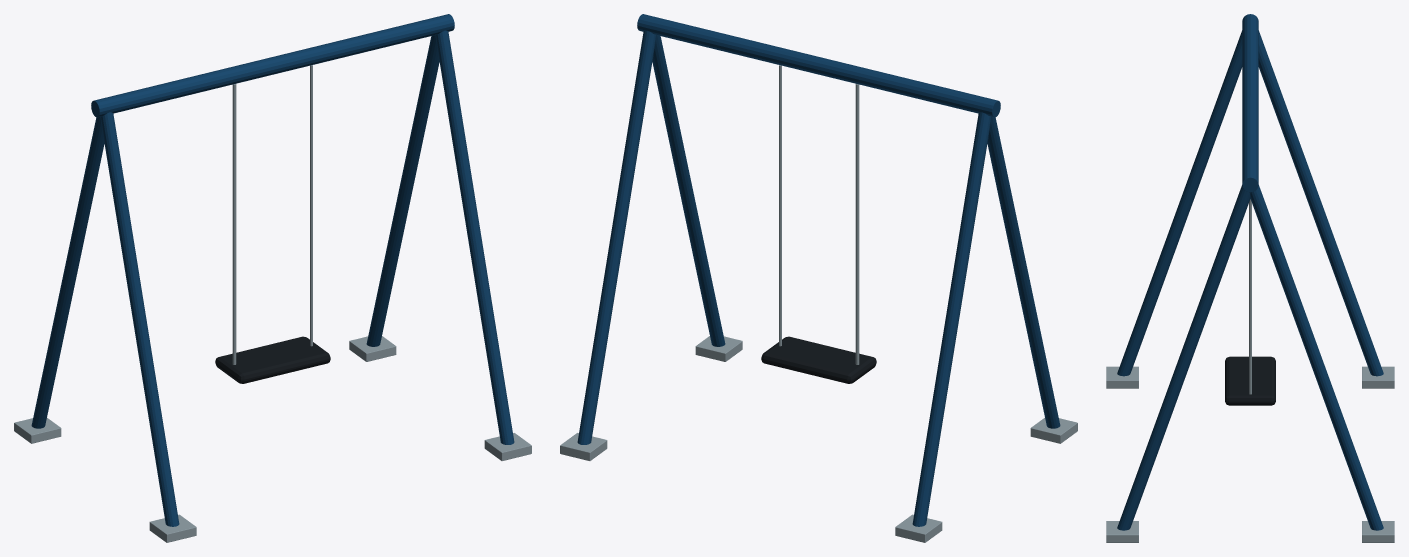
Rendered from edited.glb.
3 renders of one model, left to right at view 1: azimuth 30°, elevation 25°; view 2: azimuth 150°, elevation 25°; view 3: azimuth 270°, elevation 25°, orthographic. The views are drawn at different scales.
Parts seen in each view (by area): view 1: FRAME_Top, FRAME_Leg, FRAME_Leg.002, FRAME_Leg.003, FRAME_Leg.001, SEAT, CHAIN_Suspension.001, CHAIN_Suspension, FRAME_Foot, FRAME_Foot.002, FRAME_Foot.001, FRAME_Foot.003; view 2: FRAME_Top, FRAME_Leg.001, FRAME_Leg.003, FRAME_Leg.002, FRAME_Leg, SEAT, CHAIN_Suspension.001, CHAIN_Suspension, FRAME_Foot.001, FRAME_Foot.003, FRAME_Foot, FRAME_Foot.002; view 3: FRAME_Leg.002, FRAME_Leg.003, FRAME_Leg, FRAME_Leg.001, FRAME_Top, SEAT, FRAME_Foot, FRAME_Foot.001, FRAME_Foot.002, FRAME_Foot.003, CHAIN_Suspension.
Boxes of the visible parts, <box> form: FRAME_Top: <box>91,14,454,117</box>; FRAME_Leg: <box>100,112,179,526</box>; FRAME_Leg.002: <box>435,30,514,444</box>; FRAME_Leg.003: <box>366,35,439,346</box>; FRAME_Leg.001: <box>31,117,104,428</box>; SEAT: <box>215,336,330,383</box>; CHAIN_Suspension.001: <box>232,84,236,364</box>; CHAIN_Suspension: <box>310,65,312,346</box>; FRAME_Foot: <box>149,514,196,542</box>; FRAME_Foot.002: <box>484,433,531,460</box>; FRAME_Foot.001: <box>14,418,61,443</box>; FRAME_Foot.003: <box>349,336,396,361</box>; FRAME_Top: <box>637,14,1000,117</box>; FRAME_Leg.001: <box>912,112,991,526</box>; FRAME_Leg.003: <box>577,30,656,444</box>; FRAME_Leg.002: <box>652,35,725,346</box>; FRAME_Leg: <box>987,117,1060,428</box>; SEAT: <box>761,336,876,383</box>; CHAIN_Suspension.001: <box>855,84,859,364</box>; CHAIN_Suspension: <box>779,65,781,346</box>; FRAME_Foot.001: <box>895,514,942,542</box>; FRAME_Foot.003: <box>560,433,607,460</box>; FRAME_Foot: <box>1030,418,1077,443</box>; FRAME_Foot.002: <box>695,336,742,361</box>; FRAME_Leg.002: <box>1117,185,1250,530</box>; FRAME_Leg.003: <box>1250,185,1383,530</box>; FRAME_Leg: <box>1117,30,1242,376</box>; FRAME_Leg.001: <box>1258,30,1383,376</box>; FRAME_Top: <box>1242,14,1258,192</box>; SEAT: <box>1225,356,1275,405</box>; FRAME_Foot: <box>1106,366,1138,388</box>; FRAME_Foot.001: <box>1362,366,1394,388</box>; FRAME_Foot.002: <box>1106,521,1138,542</box>; FRAME_Foot.003: <box>1362,521,1394,542</box>; CHAIN_Suspension: <box>1249,199,1251,394</box>.
Bounding box in the file's own units: 2.18 × 2.2 × 1.58.
